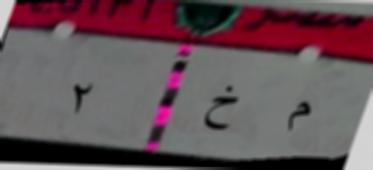2: (66, 70, 105, 118)
khaa: (199, 80, 245, 140)
meem: (278, 90, 322, 145)
